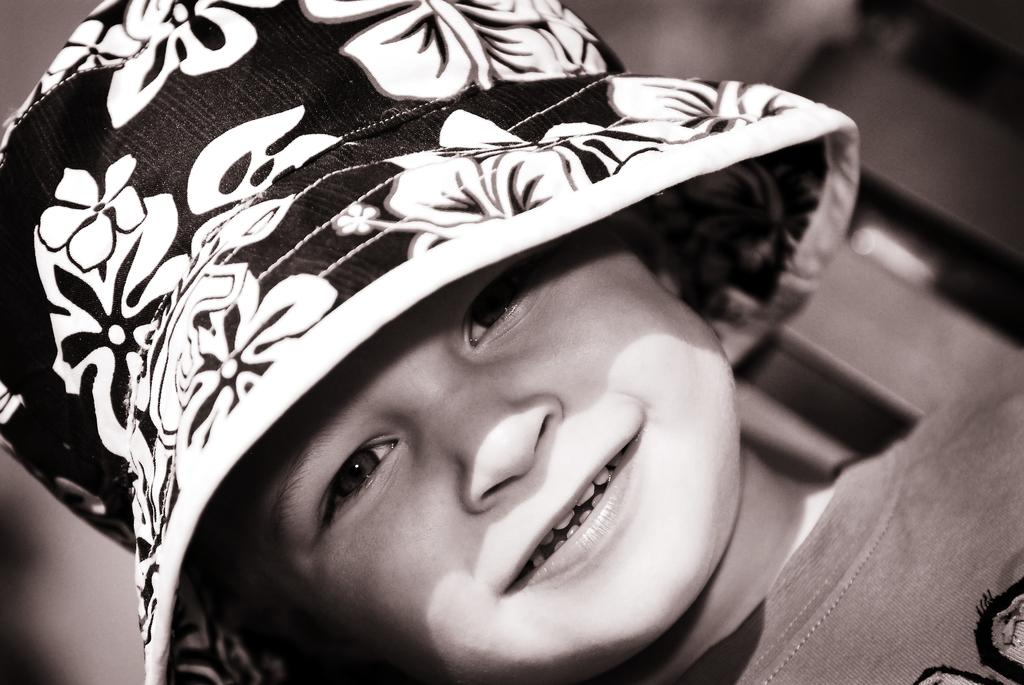Hat: (0, 0, 858, 684)
